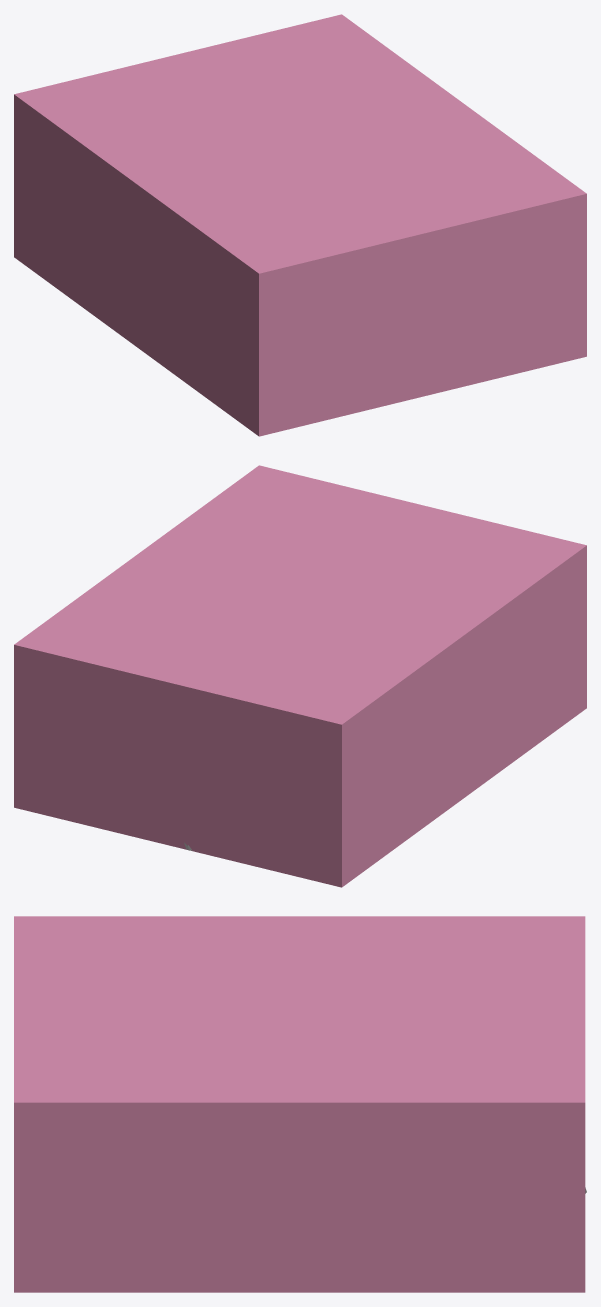
The model's file is rock_01_a_large_a.dae.
The picture shows the model from 3 angles, top to bottom: view 1: azimuth 30°, elevation 25°; view 2: azimuth 150°, elevation 25°; view 3: azimuth 270°, elevation 25°; orthographic projection. The views are drawn at different scales.
Parts seen in each view (by area): view 1: Untitled; view 2: Untitled; view 3: Untitled.
Part boxes in pixels (<box>): Untitled: <box>14,14,586,436</box>; Untitled: <box>14,465,586,887</box>; Untitled: <box>14,916,585,1292</box>.
Size of the model in its own units: 1.26 by 1.63 by 0.5971.
